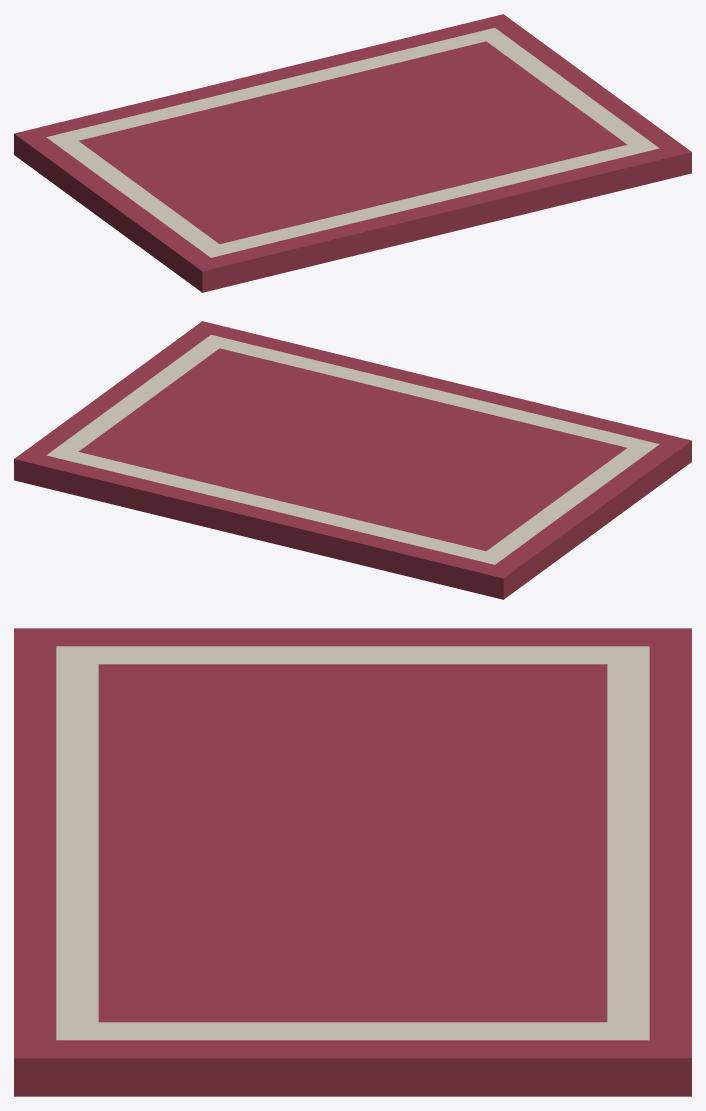
Rendered from tapis.glb.
The picture shows the model from 3 angles, top to bottom: view 1: azimuth 30°, elevation 25°; view 2: azimuth 150°, elevation 25°; view 3: azimuth 270°, elevation 25°; orthographic projection. The views are drawn at different scales.
Visible parts, largest first — view 1: main; view 2: main; view 3: main.
Boxes of the visible parts, left/top/right/bottom form: main: left=14, top=14, right=691, bottom=292; main: left=14, top=321, right=691, bottom=599; main: left=14, top=628, right=691, bottom=1096.
Size of the model in its own units: 1.5 by 0.0625 by 1.
